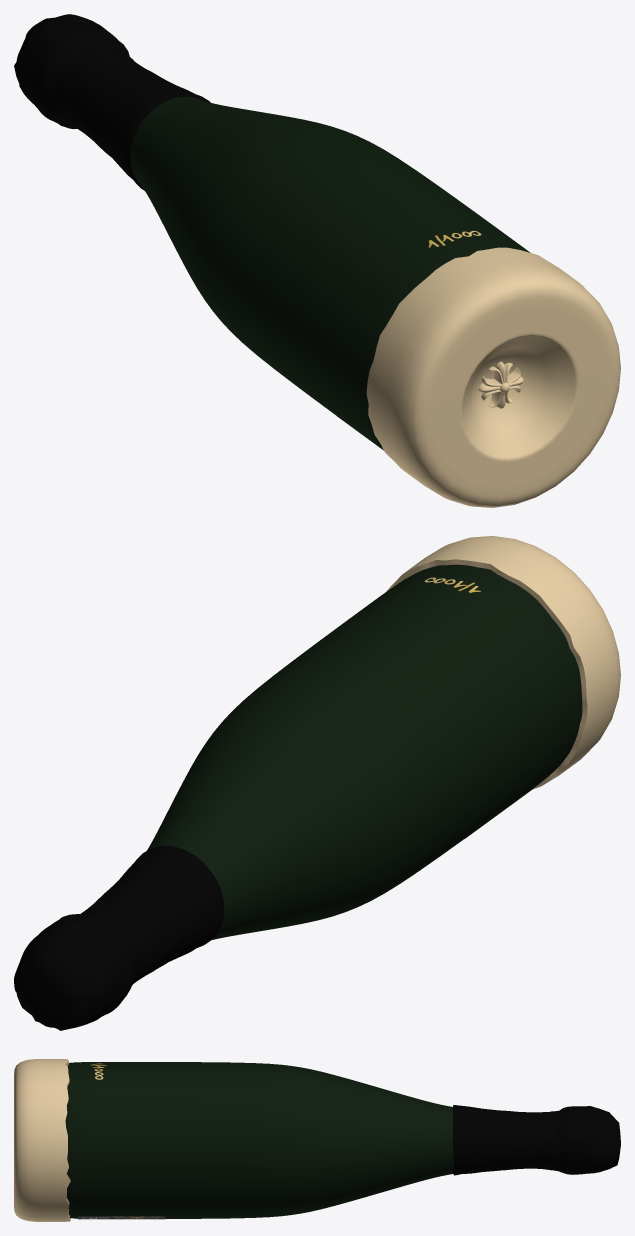
File: KxCHBottle11b.glb
3 views of the same model, one above another, from view 1: azimuth 30°, elevation 25°; view 2: azimuth 150°, elevation 25°; view 3: azimuth 270°, elevation 25° (orthographic). The views are drawn at different scales.
Parts seen in each view (by area): view 1: OG, Base without top.002, Cylinder.007, object_3; view 2: OG, Cylinder.007, Base without top.002; view 3: OG, Cylinder.007, Base without top.002, Plane.001.
Boxes of the visible parts, left/top/right/bottom form: OG: left=130, top=96, right=530, bottom=449; Base without top.002: left=366, top=247, right=620, bottom=507; Cylinder.007: left=14, top=14, right=210, bottom=190; object_3: left=478, top=361, right=523, bottom=408; OG: left=147, top=564, right=582, bottom=940; Cylinder.007: left=14, top=845, right=224, bottom=1030; Base without top.002: left=386, top=536, right=620, bottom=789; OG: left=65, top=1062, right=453, bottom=1218; Cylinder.007: left=453, top=1105, right=620, bottom=1175; Base without top.002: left=14, top=1059, right=70, bottom=1221; Plane.001: left=77, top=1216, right=165, bottom=1219.
Size of the model in its own units: 0.69 by 0.69 by 2.57.
Materials: 7 (2 with a texture image).
